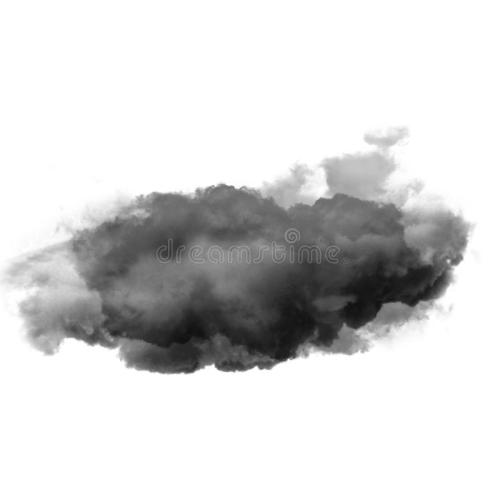smoke: (17, 141, 470, 375)
